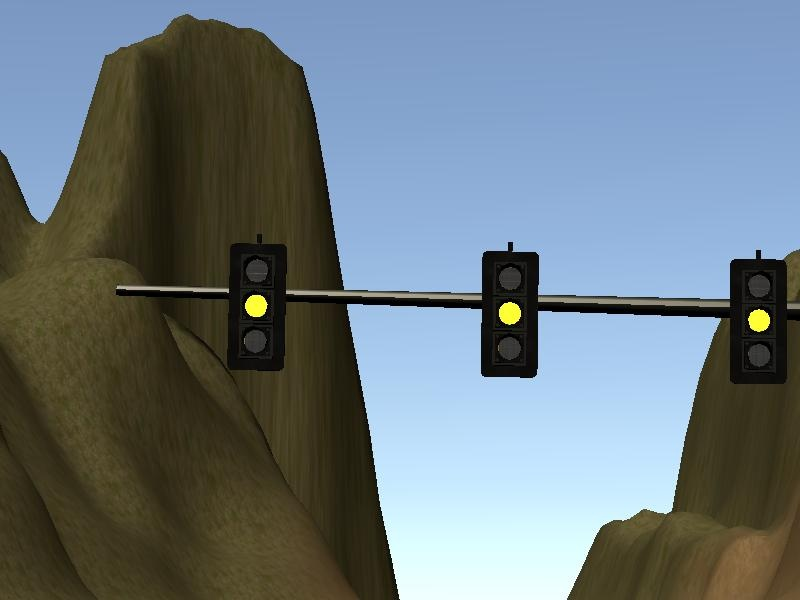YELLOW: (479, 243, 541, 380), (726, 250, 789, 384), (224, 236, 287, 370)
